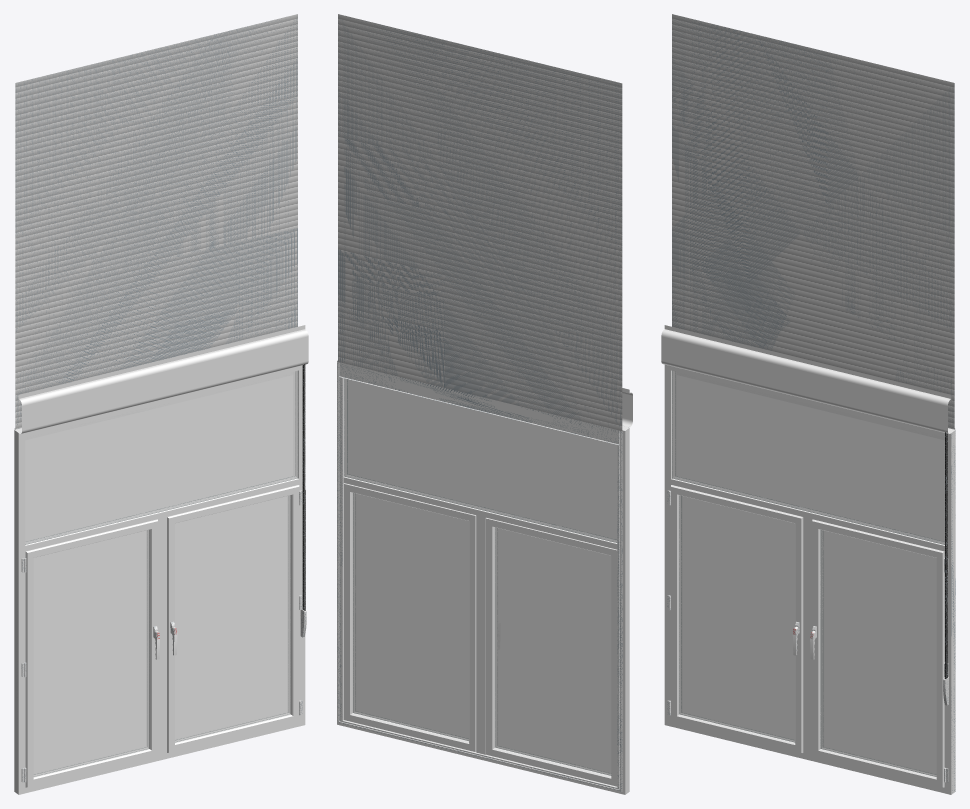
File: Window1_150x200x[2 casement_blinds].dae
The picture shows the model from 3 angles, left to right: view 1: azimuth 30°, elevation 25°; view 2: azimuth 150°, elevation 25°; view 3: azimuth 330°, elevation 25°; orthographic projection.
Parts seen in each view (by area): view 1: group_24, group_2 (×5), group_5 (×2), group_15 (×2), group_29, group_16 (×2), group_6 (×2); view 2: group_24 (×2), group_2 (×5), group_5 (×2), group_15 (×2), group_16 (×2), group_23 (×2), group_6 (×2); view 3: group_24, group_2 (×6), group_15 (×2), group_5 (×2), group_29, group_6 (×2), group_16 (×2).
Boxes of the visible parts, x1=… form: group_24: x1=15, y1=14, x2=297, y2=428; group_2 (×5): x1=14, y1=365, x2=305, y2=794; group_5 (×2): x1=33, y1=530, x2=149, y2=776; group_15 (×2): x1=175, y1=495, x2=290, y2=742; group_29: x1=18, y1=325, x2=308, y2=433; group_16 (×2): x1=167, y1=485, x2=299, y2=752; group_6 (×2): x1=25, y1=519, x2=157, y2=787; group_24 (×2): x1=338, y1=14, x2=622, y2=444; group_2 (×5): x1=337, y1=360, x2=629, y2=794; group_5 (×2): x1=495, y1=527, x2=611, y2=775; group_15 (×2): x1=353, y1=493, x2=468, y2=740; group_16 (×2): x1=344, y1=483, x2=476, y2=751; group_23 (×2): x1=337, y1=362, x2=622, y2=791; group_6 (×2): x1=486, y1=518, x2=617, y2=786; group_24: x1=672, y1=14, x2=954, y2=428; group_2 (×6): x1=664, y1=364, x2=955, y2=794; group_15 (×2): x1=820, y1=530, x2=936, y2=776; group_5 (×2): x1=679, y1=495, x2=794, y2=742; group_29: x1=661, y1=325, x2=951, y2=433; group_6 (×2): x1=671, y1=485, x2=803, y2=752; group_16 (×2): x1=812, y1=519, x2=944, y2=787.
Bounding box in the file's own units: 59.06 × 4.18 × 139.
Materials: 12 (1 with a texture image).
